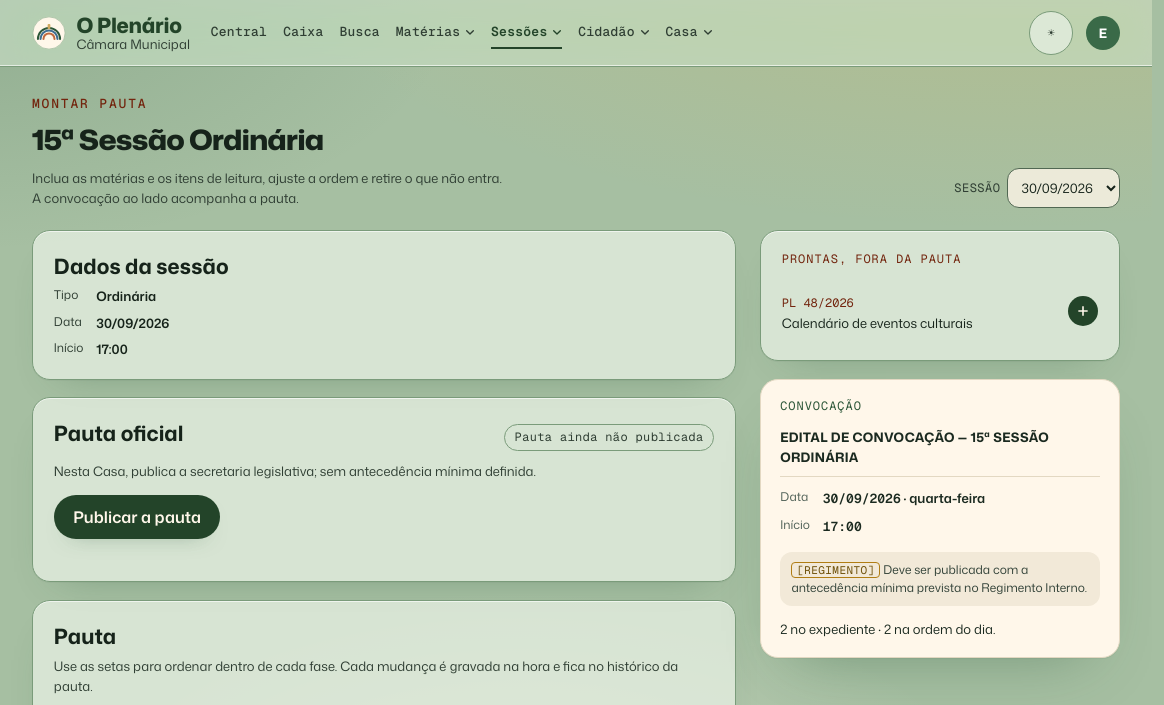
it: PaginaPautaConvocacao — montar a pauta › incluir do rail: escolhe a fase e a matéria entra na pauta (e sai do rail)
Click the button named "Incluir PL 48/2026 na pauta" at (1083, 311), box [1068,296,1098,326]
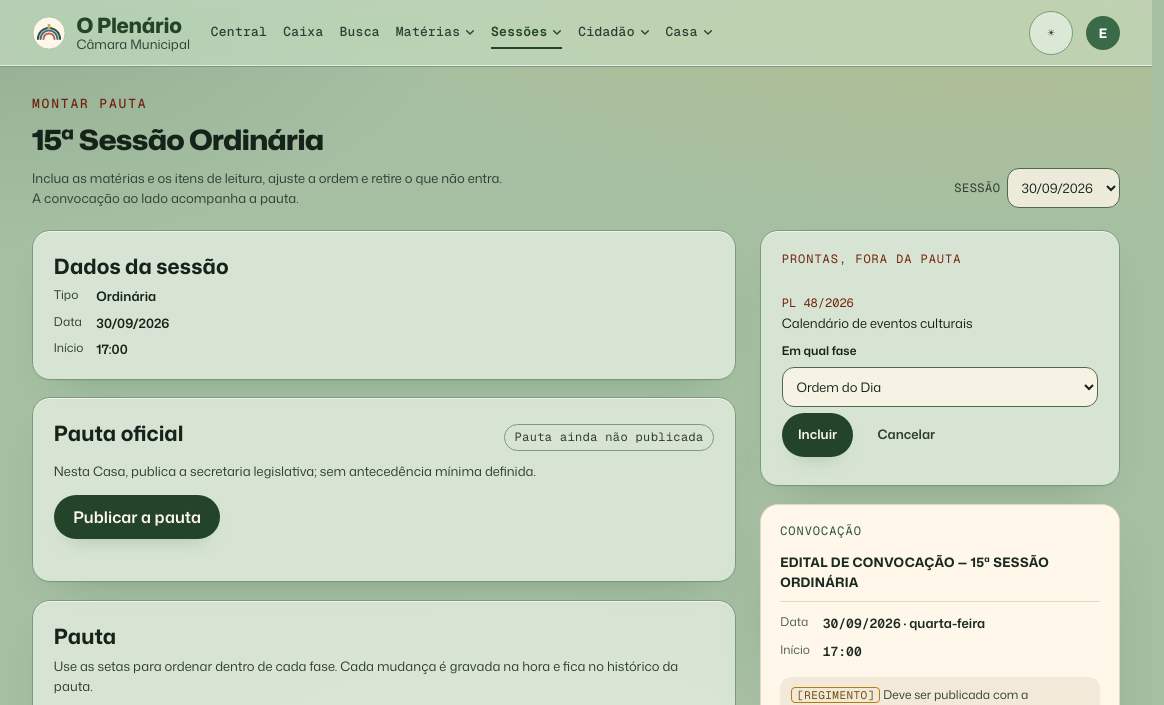
Select "Expediente" in the dropdown labelled "Em qual fase" at (940, 387), box [782,367,1098,407]
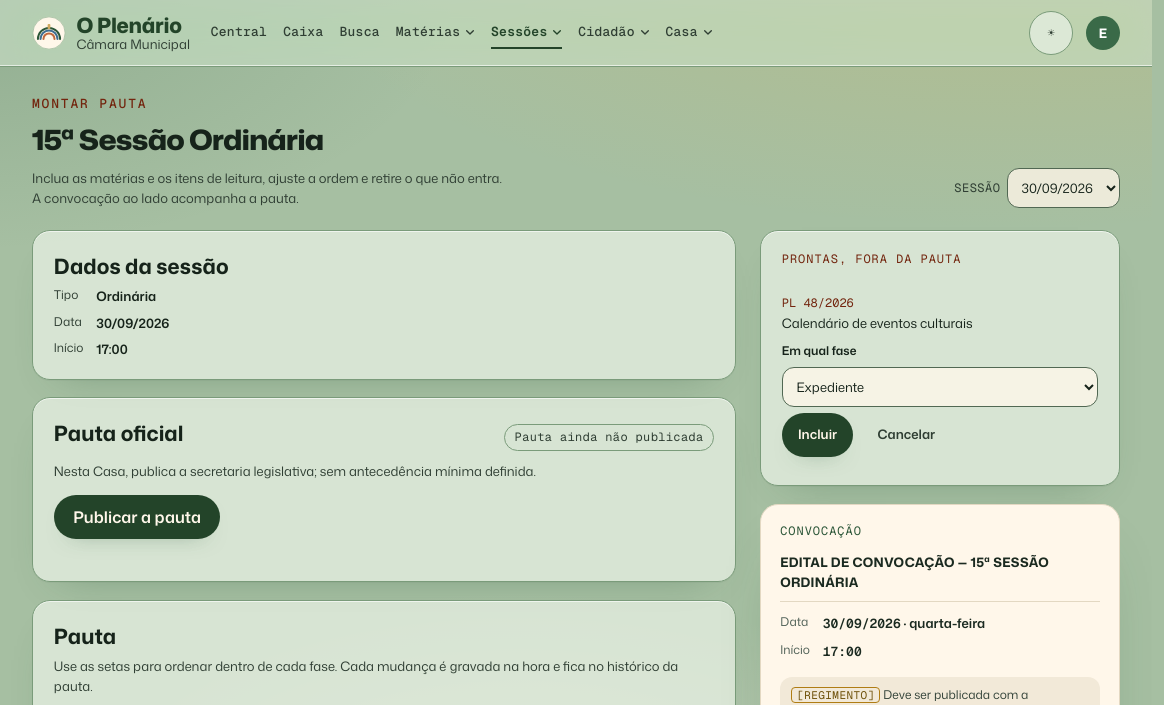
Click the button "Incluir" at (818, 435), box [782,413,853,457]
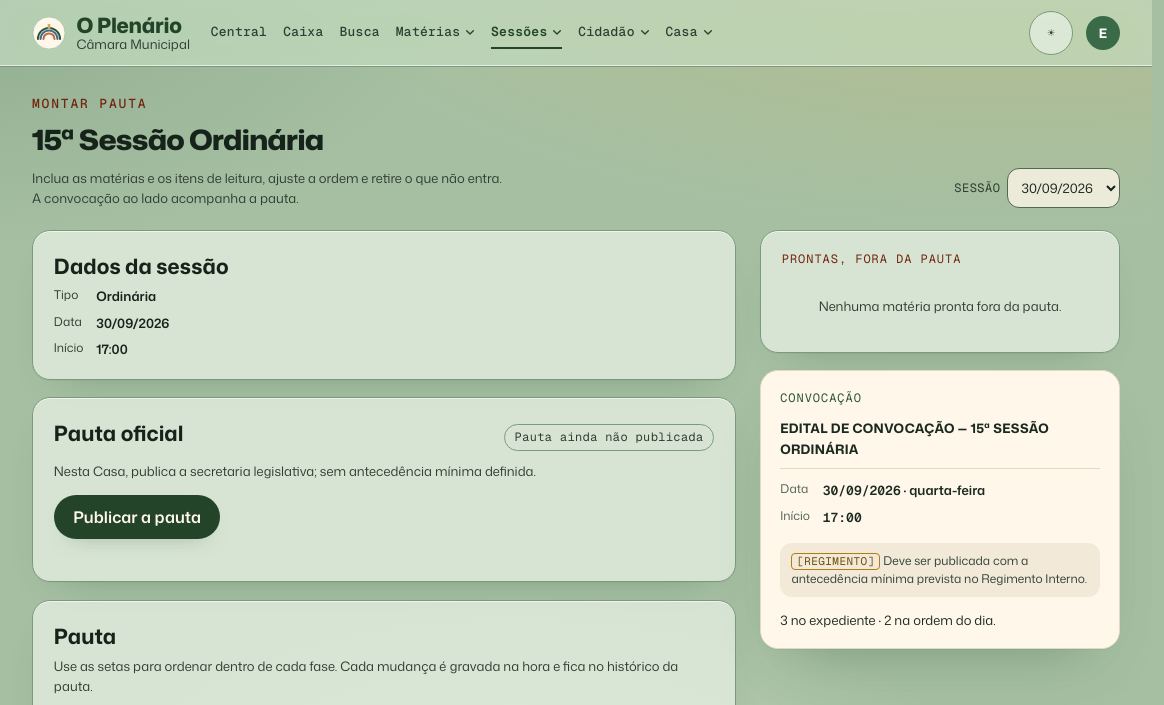
Check: the text "Nenhuma matéria pronta fora da pauta." is shown, box [819,297,1061,315]
